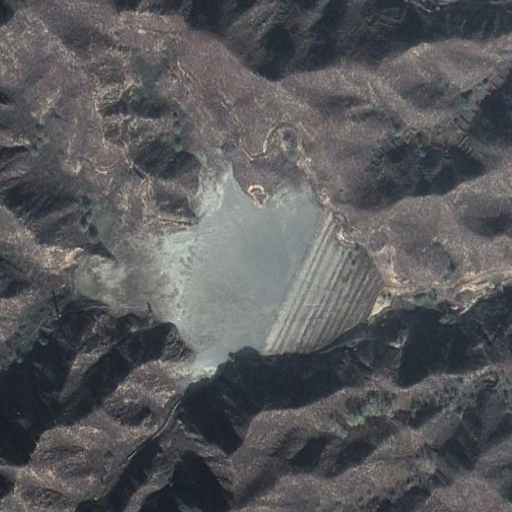tp: (63, 147, 378, 389)
